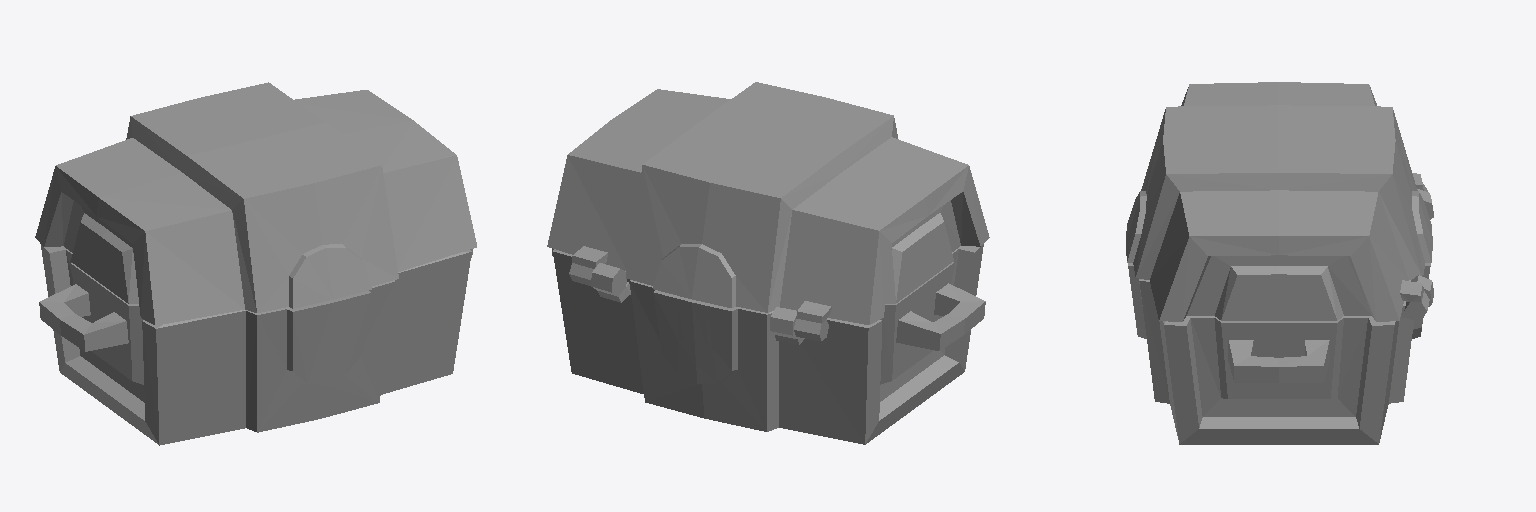
The model's file is chest3.obj.
3 renders of one model, left to right at view 1: azimuth 30°, elevation 25°; view 2: azimuth 150°, elevation 25°; view 3: azimuth 270°, elevation 25°, orthographic.
Visible parts, largest first — view 1: chest3; view 2: chest3; view 3: chest3.
Part boxes in pixels (bbox=[...]): chest3: bbox=[35, 82, 476, 445]; chest3: bbox=[547, 82, 989, 444]; chest3: bbox=[1126, 82, 1433, 444].
Bounding box in the file's own units: 2.24 × 1.27 × 1.52.